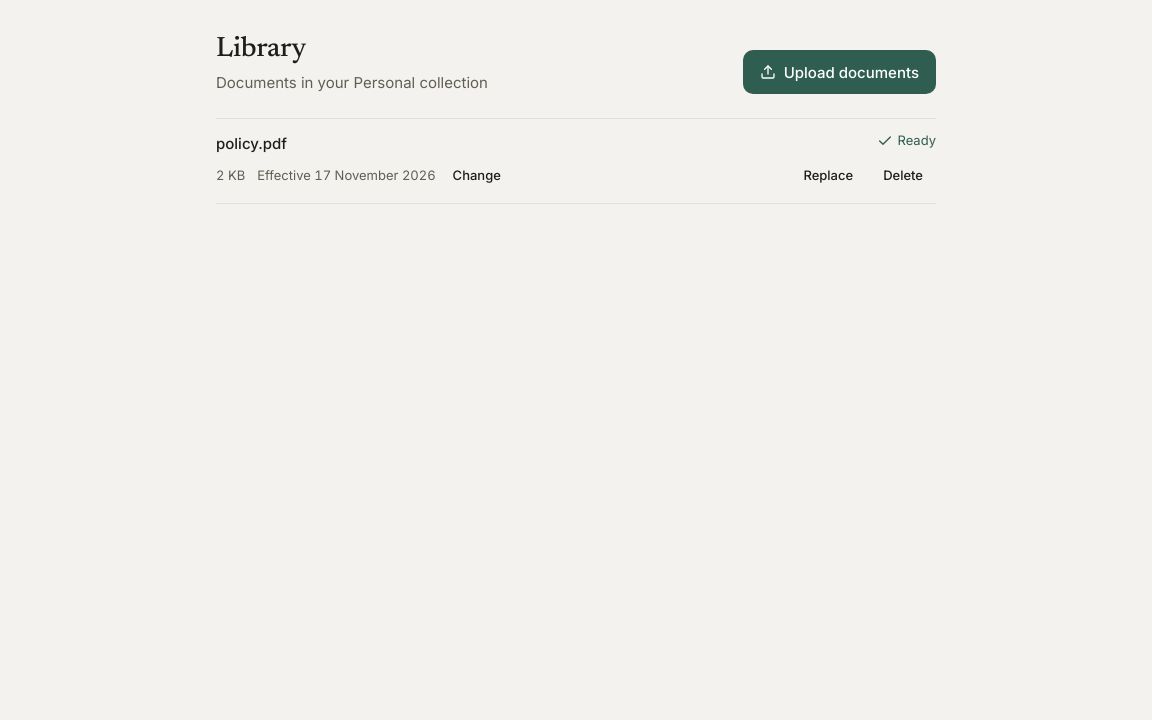
Scenario: Deleting a Document › changes nothing when cancelled
The image size is (1152, 720).
Step 1. Click the button with aria-label "Delete policy.pdf" → (903, 175), box [870,159,936,191]
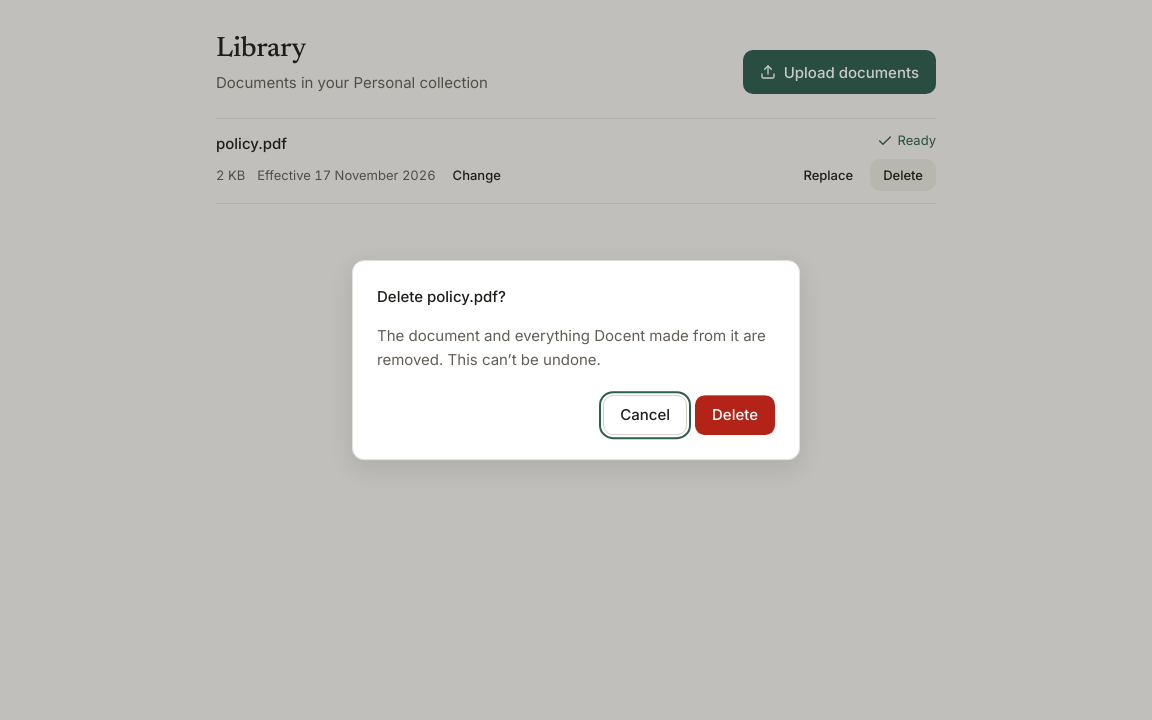
Step 2. Click the button "Cancel" → (645, 415), box [603,395,687,435]
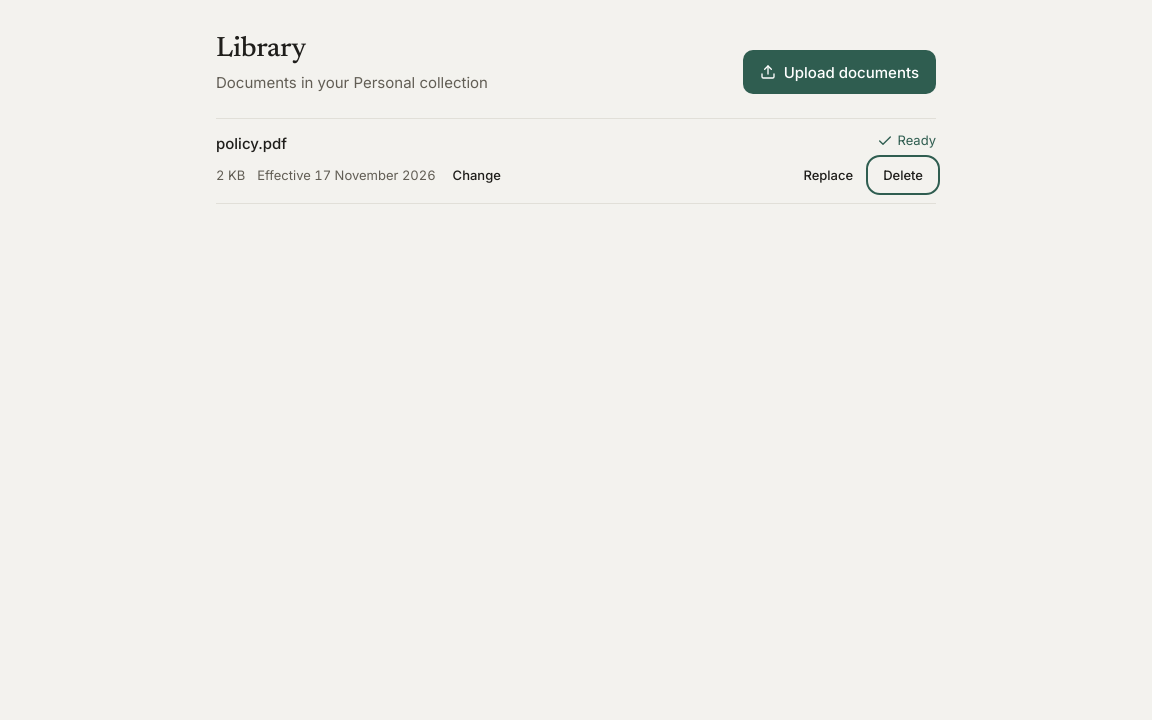
Expected: the text "policy.pdf" is shown, [216,132,287,155]
Now the dialog is gone
